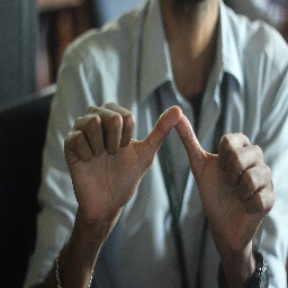A: (80, 99, 263, 216)
